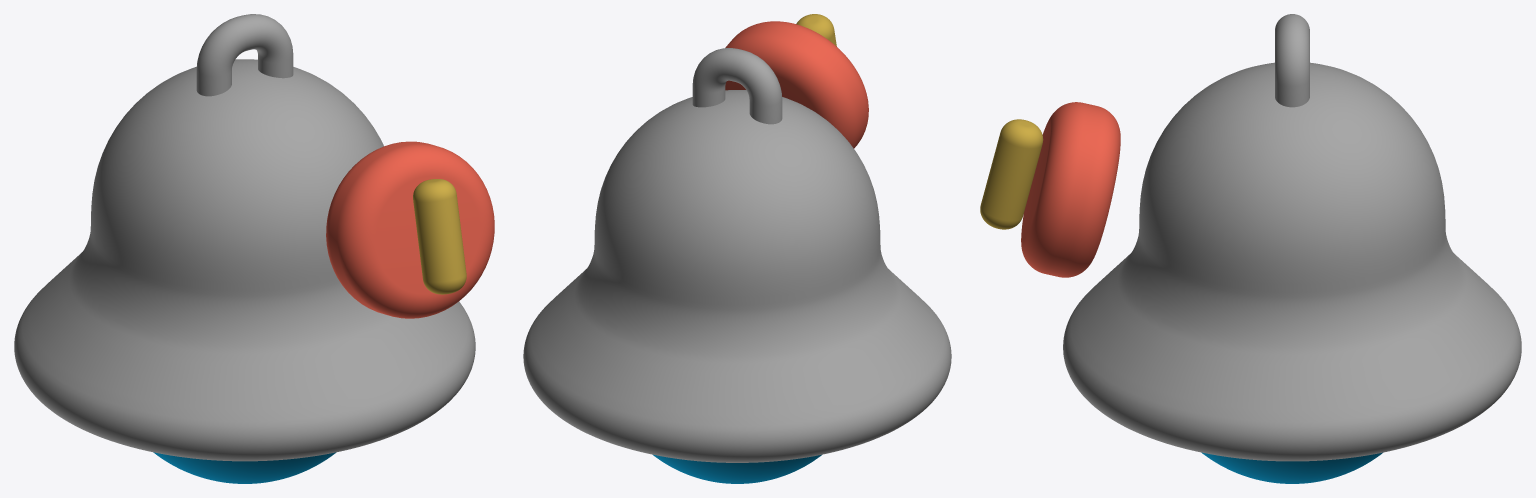
The model's file is notification-3d-animated-icon-922887488054.glb.
3 views of the same model, side by side, from view 1: azimuth 30°, elevation 25°; view 2: azimuth 150°, elevation 25°; view 3: azimuth 270°, elevation 25° (orthographic). The views are drawn at different scales.
Parts seen in each view (by area): view 1: Cylinder.017, Cylinder.018, Plane.004, Cylinder.019, Sphere.001; view 2: Cylinder.017, Cylinder.018, Plane.004, Sphere.001, Cylinder.019; view 3: Cylinder.017, Cylinder.018, Cylinder.019, Plane.004, Sphere.001.
Part boxes in pixels (x1,y1,x2,y2): Cylinder.017: (14,59,475,461); Cylinder.018: (326,141,494,318); Plane.004: (196,14,293,96); Cylinder.019: (413,179,466,294); Sphere.001: (153,452,336,483); Cylinder.017: (523,90,951,462); Cylinder.018: (725,21,868,148); Plane.004: (692,48,782,124); Sphere.001: (653,454,821,483); Cylinder.019: (796,14,836,46); Cylinder.017: (1063,62,1521,461); Cylinder.018: (1021,102,1120,277); Cylinder.019: (980,119,1043,229); Plane.004: (1275,14,1309,107); Sphere.001: (1201,452,1382,483).
Size of the model in its own units: 1.61 by 1.75 by 1.9.
